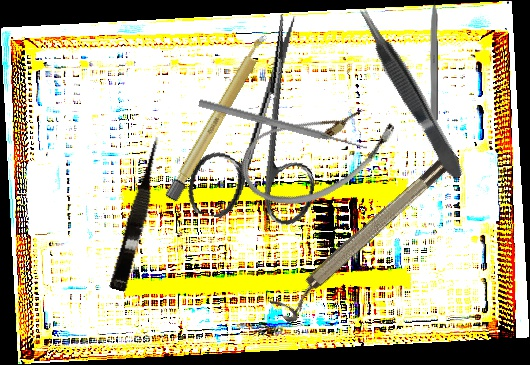Cannula: (229, 74, 407, 227)
Fixation Ring: (269, 145, 469, 326)
Iris Scissors: (184, 2, 346, 235)
Micro Scissor: (108, 135, 170, 293)
Pusher: (197, 97, 369, 154)
Scalpel Handle: (163, 30, 273, 204), (429, 1, 438, 138)
Tissue Forceps: (352, 2, 468, 184)
